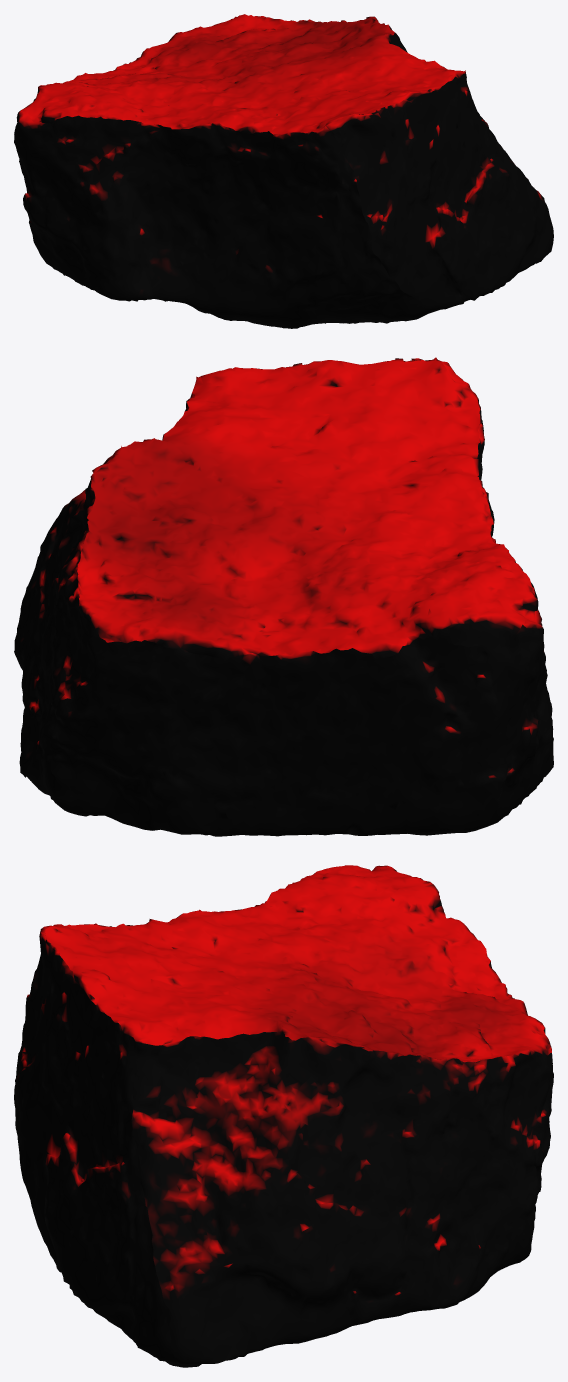
File: SM_BoulderLargeMoss_02.fbx
The picture shows the model from 3 angles, top to bottom: view 1: azimuth 30°, elevation 25°; view 2: azimuth 150°, elevation 25°; view 3: azimuth 270°, elevation 25°; orthographic projection. The views are drawn at different scales.
Visible parts, largest first — view 1: SM_BoulderLargeMoss_02; view 2: SM_BoulderLargeMoss_02; view 3: SM_BoulderLargeMoss_02.
Part boxes in pixels (left/top/right/bottom): SM_BoulderLargeMoss_02: left=14, top=14, right=553, bottom=328; SM_BoulderLargeMoss_02: left=14, top=357, right=553, bottom=836; SM_BoulderLargeMoss_02: left=14, top=865, right=553, bottom=1367.
Size of the model in its own units: 235 by 192 by 118.
